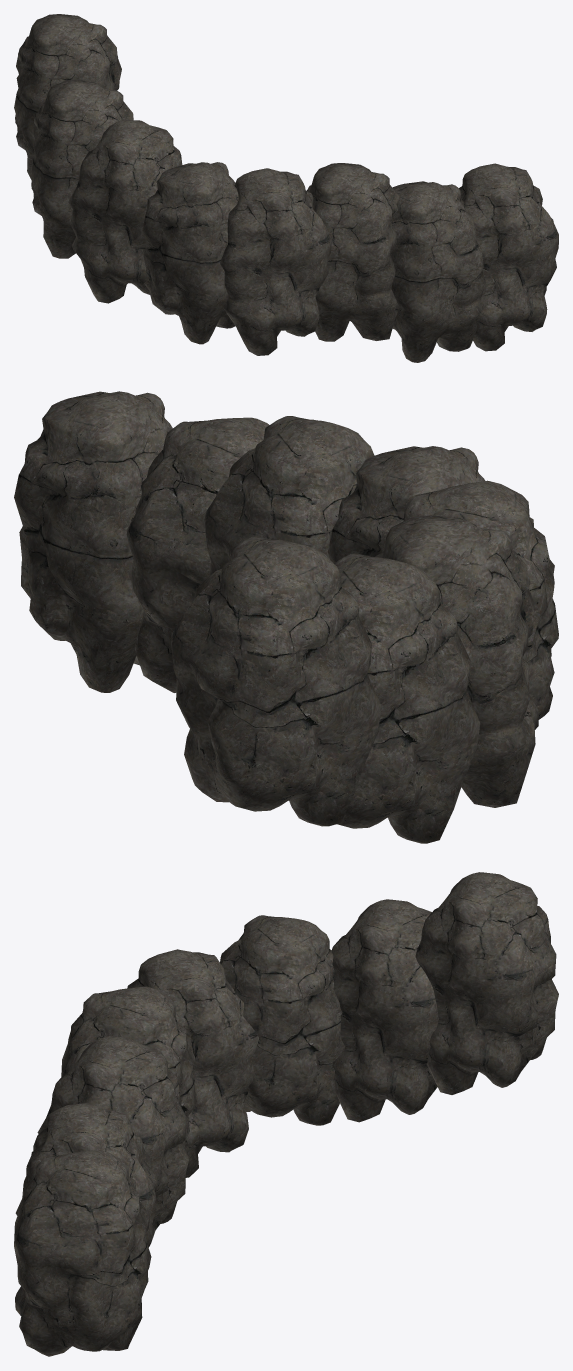
The model's file is TwinPeakRocksShape17.dae.
The picture shows the model from 3 angles, top to bottom: view 1: azimuth 30°, elevation 25°; view 2: azimuth 150°, elevation 25°; view 3: azimuth 270°, elevation 25°; orthographic projection. The views are drawn at different scales.
Visible parts, largest first — view 1: TwinPeakRocks17; view 2: TwinPeakRocks17; view 3: TwinPeakRocks17.
Part boxes in pixels (left/top/right/bottom): TwinPeakRocks17: left=14, top=14, right=558, bottom=362; TwinPeakRocks17: left=14, top=391, right=558, bottom=843; TwinPeakRocks17: left=14, top=872, right=558, bottom=1356.
Bounding box in the file's own units: 149 × 95.98 × 148.
